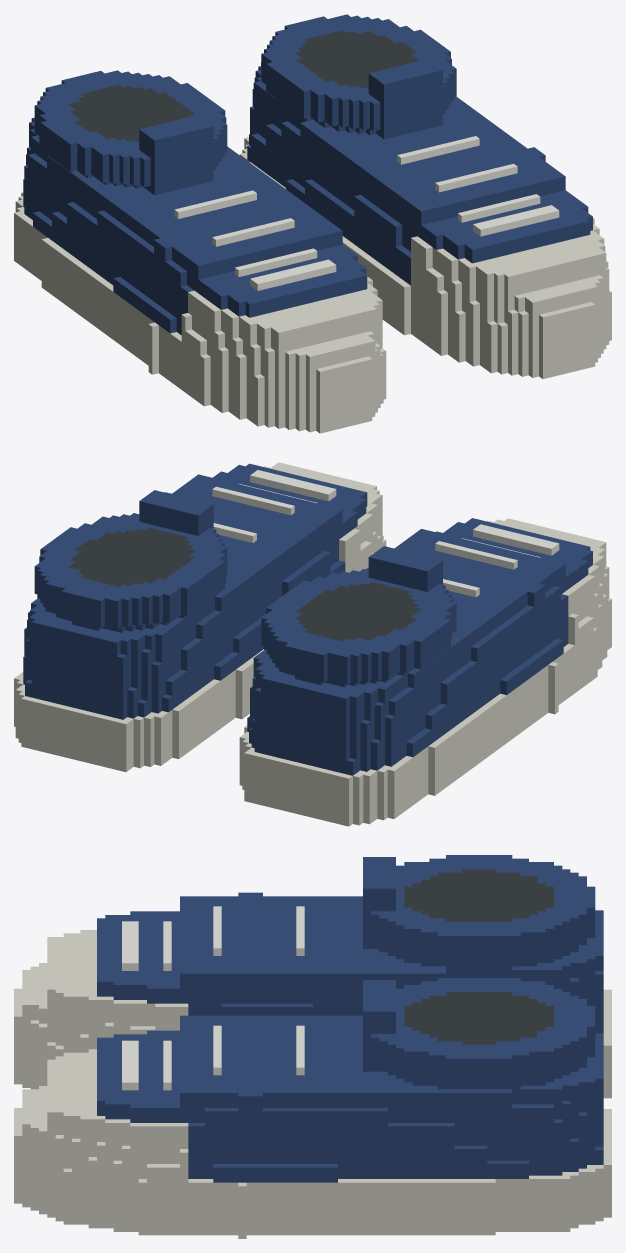
The model's file is denim_sneakers.glb.
The picture shows the model from 3 angles, top to bottom: view 1: azimuth 30°, elevation 25°; view 2: azimuth 150°, elevation 25°; view 3: azimuth 270°, elevation 25°; orthographic projection. The views are drawn at different scales.
Parts seen in each view (by area): view 1: denim_sneakers:compound; view 2: denim_sneakers:compound; view 3: denim_sneakers:compound.
Part boxes in pixels (x1,y1,x2,y2): denim_sneakers:compound: [14, 14, 611, 433]; denim_sneakers:compound: [14, 462, 611, 826]; denim_sneakers:compound: [14, 855, 611, 1238].
Bounding box in the file's own units: 0.248 × 0.104 × 0.288.
